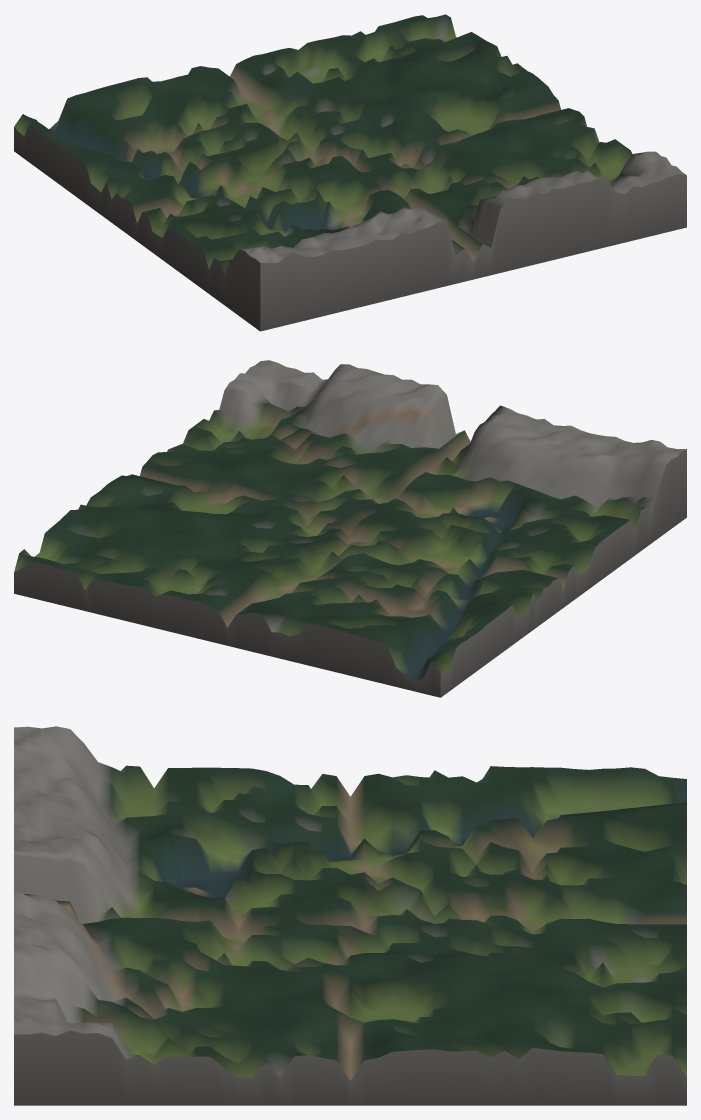
File: far.glb
3 renders of one model, top to bottom at view 1: azimuth 30°, elevation 25°; view 2: azimuth 150°, elevation 25°; view 3: azimuth 270°, elevation 25°, orthographic. The views are drawn at different scales.
Parts seen in each view (by area): view 1: far-proxy; view 2: far-proxy; view 3: far-proxy.
Part boxes in pixels (x1=…): far-proxy: x1=14, y1=14, x2=686, y2=331; far-proxy: x1=14, y1=360, x2=686, y2=697; far-proxy: x1=14, y1=726, x2=686, y2=1105.
Size of the model in its own units: 500 by 80.96 by 500.
